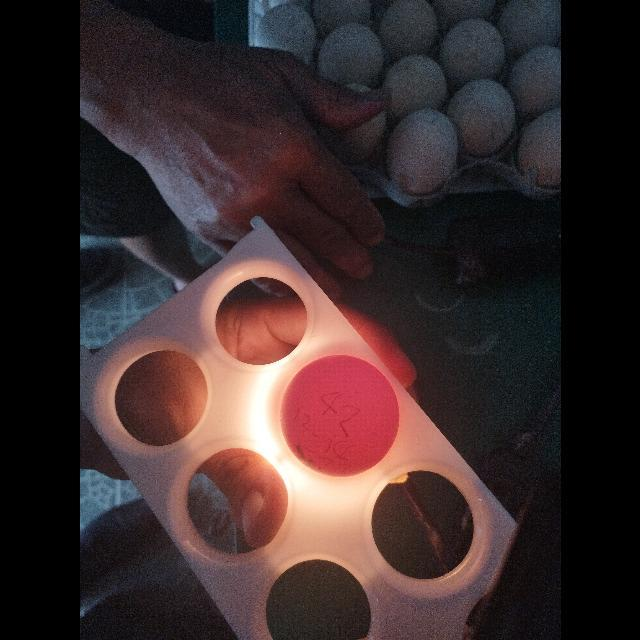Infertile: (278, 354, 400, 480)
